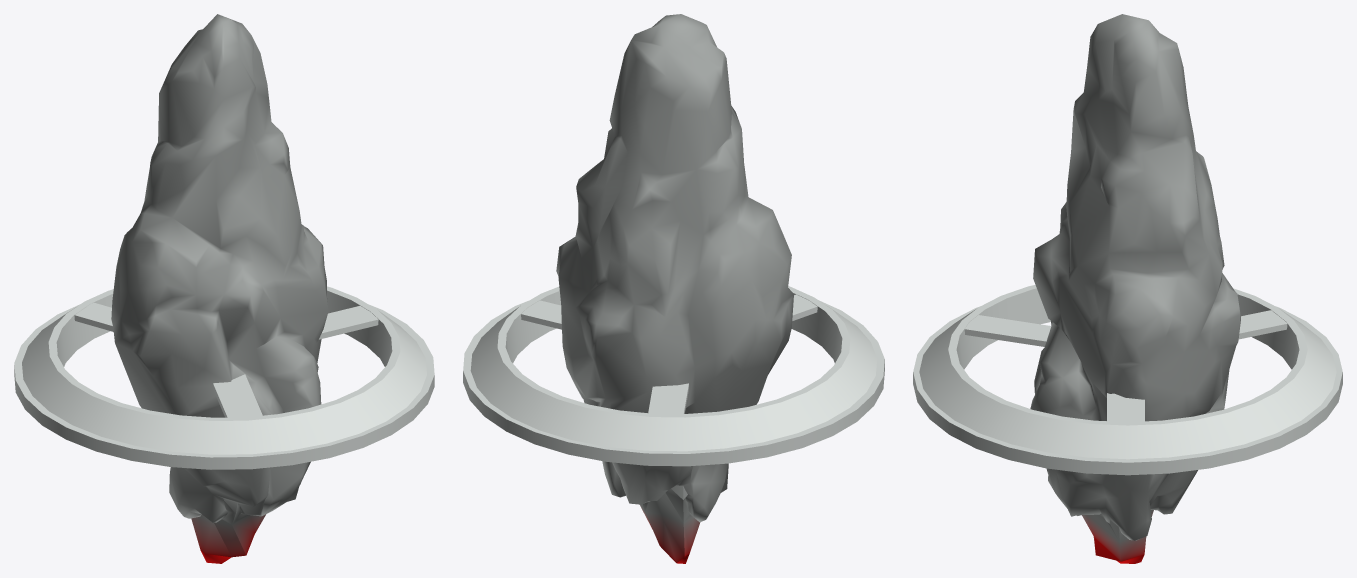
3 views of the same model, side by side, from view 1: azimuth 30°, elevation 25°; view 2: azimuth 150°, elevation 25°; view 3: azimuth 270°, elevation 25° (orthographic).
Visible parts, largest first — view 1: G:\FFXIV-MapTools\exports\u5f2\bg\ex4\04_uvs_u5\fld\u5f2\bgp (×4); view 2: G:\FFXIV-MapTools\exports\u5f2\bg\ex4\04_uvs_u5\fld\u5f2\bgp (×4); view 3: G:\FFXIV-MapTools\exports\u5f2\bg\ex4\04_uvs_u5\fld\u5f2\bgp (×4).
Part boxes in pixels (bbox=[...]): G:\FFXIV-MapTools\exports\u5f2\bg\ex4\04_uvs_u5\fld\u5f2\bgp (×4): bbox=[14, 14, 434, 563]; G:\FFXIV-MapTools\exports\u5f2\bg\ex4\04_uvs_u5\fld\u5f2\bgp (×4): bbox=[463, 14, 884, 563]; G:\FFXIV-MapTools\exports\u5f2\bg\ex4\04_uvs_u5\fld\u5f2\bgp (×4): bbox=[913, 14, 1342, 563].
Bounding box in the file's own units: 5.58 × 7.91 × 5.58.
